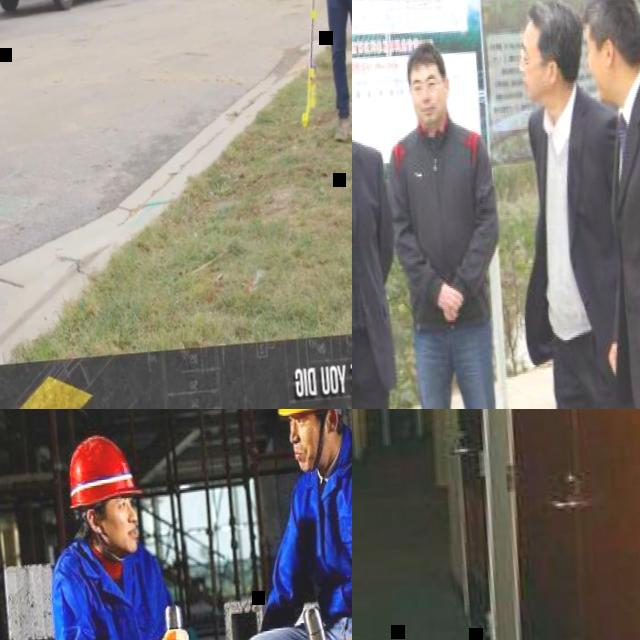Hardhat: (65, 432, 141, 507)
NO-Hardhat: (523, 0, 587, 50), (578, 0, 640, 41), (406, 40, 448, 74)
NO-Mask: (587, 56, 621, 106), (413, 96, 447, 129), (106, 520, 140, 550), (523, 70, 553, 101), (292, 441, 325, 468)
NO-Safety Vest: (526, 96, 629, 346), (398, 127, 491, 320), (602, 75, 640, 409), (283, 448, 352, 622), (352, 141, 395, 388), (67, 540, 170, 640)
Person: (374, 36, 528, 409), (514, 0, 640, 409), (35, 424, 253, 640), (209, 409, 352, 640), (574, 0, 640, 409), (352, 41, 420, 409), (297, 0, 352, 145)
